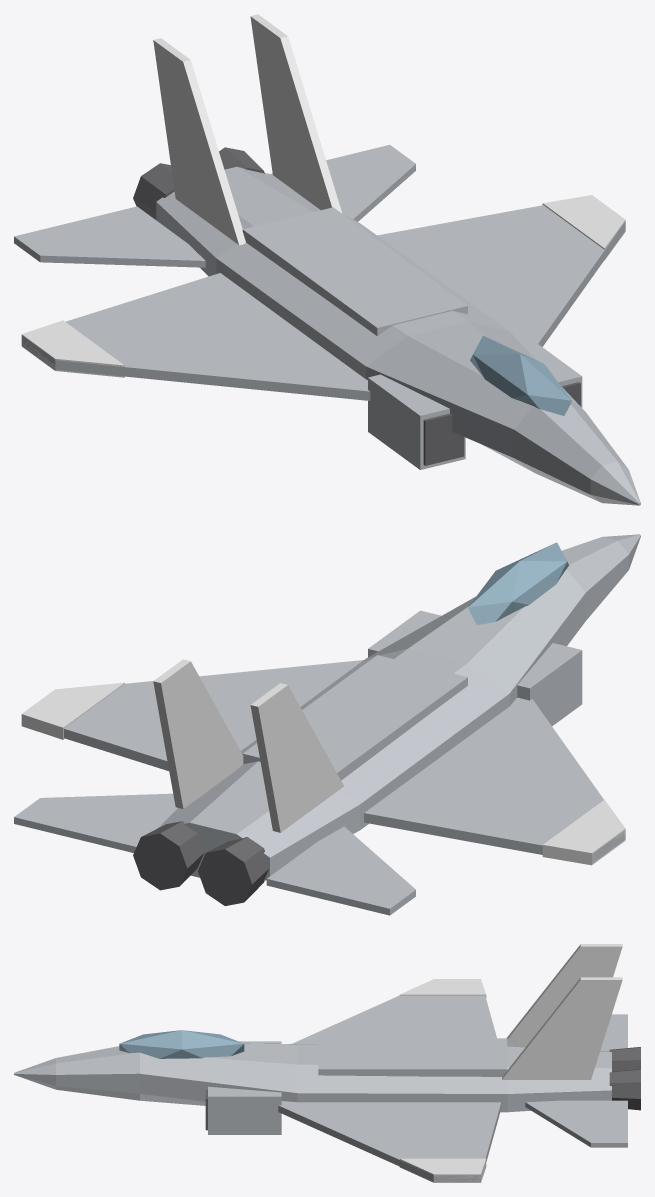
Rendered from civ_unit_jet_fighter.glb.
3 renders of one model, top to bottom at view 1: azimuth 30°, elevation 25°; view 2: azimuth 150°, elevation 25°; view 3: azimuth 270°, elevation 25°, orthographic. The views are drawn at different scales.
Parts seen in each view (by area): view 1: civ_unit_jet_fighter; view 2: civ_unit_jet_fighter; view 3: civ_unit_jet_fighter.
Part boxes in pixels (x1,y1,x2,y2): civ_unit_jet_fighter: (14, 14, 640, 505); civ_unit_jet_fighter: (14, 534, 640, 915); civ_unit_jet_fighter: (14, 944, 640, 1182).
Bounding box in the file's own units: 8.8 × 3.05 × 11.95.
